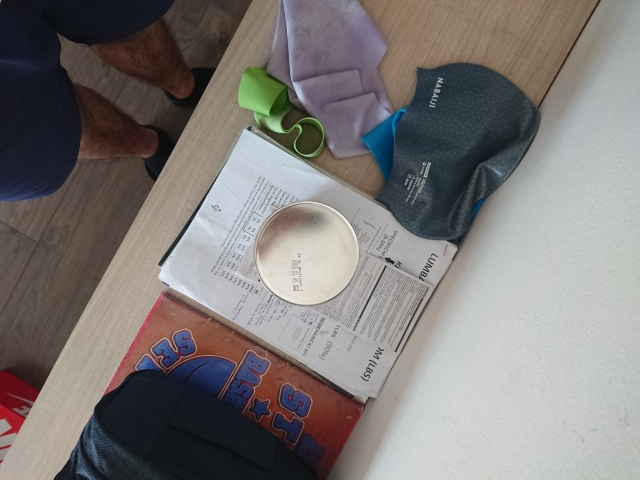Nescafe Classic 225g: (247, 195, 368, 315)
